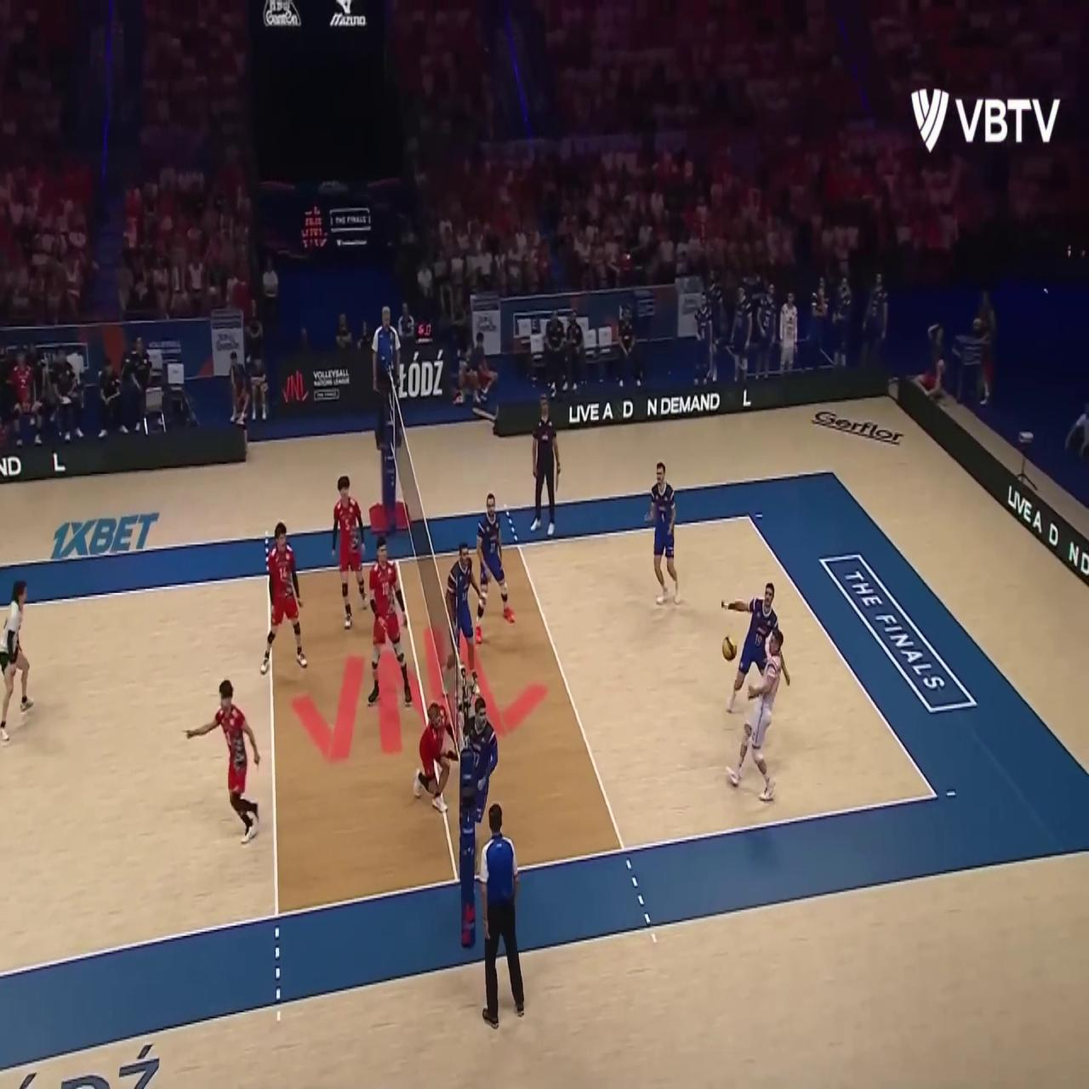ball: (722, 633, 738, 661)
